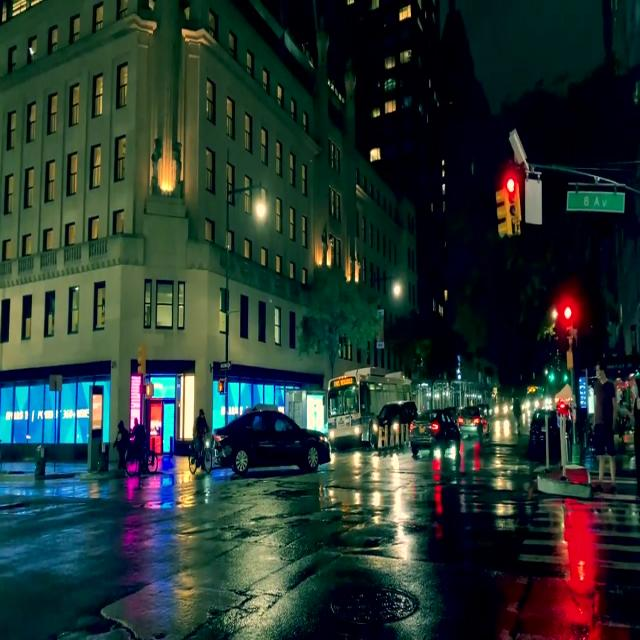Car: (214, 415, 327, 469), (411, 409, 458, 455)
